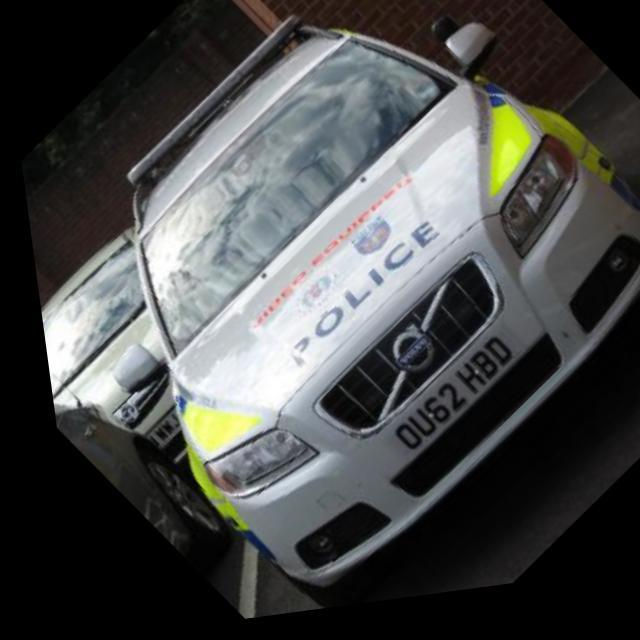license_plate: (352, 326, 524, 478), (130, 407, 178, 453)
